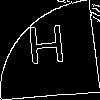H: (24, 25, 69, 74)
